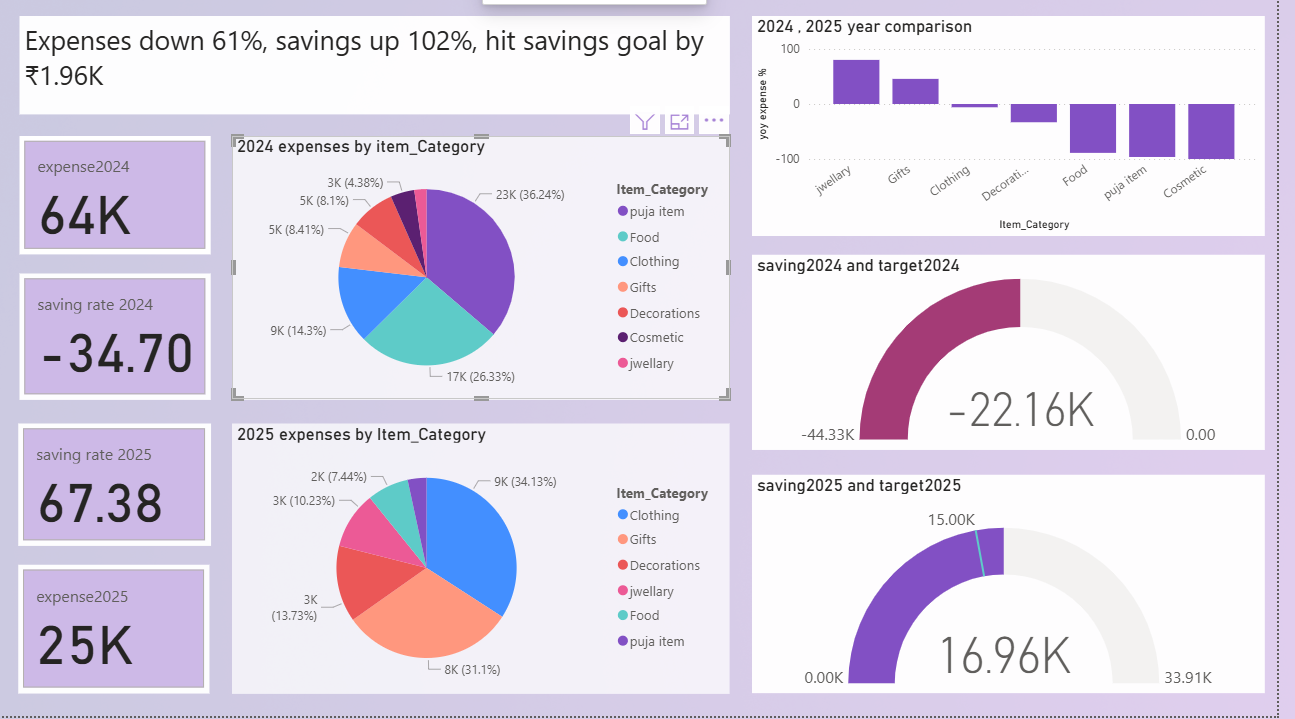

The page's visual inventory and layout, read from the dashboard file:
{"tool":"powerbi","page":{"name":"Page 1","canvas":[1280,720],"ordinal":0},"visuals":[{"type":"cardVisual","fields":{"Data":["Expenses.expense2024"]},"box":[22.5,140,191.2,118.8],"z":0},{"type":"cardVisual","fields":{"Data":["Expenses.expense2025"]},"box":[21.2,568.8,191.2,128.8],"z":1000},{"type":"pieChart","title":"2024 expenses by item_Category","fields":{"Category":["Expenses.Item_Category"],"Y":["Expenses.expense2024"]},"box":[235,140,497.5,263.8],"z":2000},{"type":"pieChart","title":"2025 expenses by Item_Category","fields":{"Category":["Expenses.Item_Category"],"Y":["Expenses.expense2025"]},"box":[235,427.5,497.5,270],"z":3000},{"type":"clusteredColumnChart","title":"2024 , 2025 year comparison","fields":{"Category":["Expenses.Item_Category"],"Y":["Expenses.yoy expense %"]},"box":[755,20,512.5,220],"z":4000},{"type":"cardVisual","fields":{"Data":["Expenses.saving rate 2024"]},"box":[22.5,277.5,191.2,126.2],"z":5000},{"type":"cardVisual","fields":{"Data":["Expenses.saving rate 2025"]},"box":[21.2,427.5,192.5,122.5],"z":6000},{"type":"gauge","fields":{"TargetValue":["Expenses.target2025"],"Y":["Expenses.saving2025"]},"box":[755,478.8,512.5,218.8],"z":7000},{"type":"gauge","fields":{"TargetValue":["Expenses.target2024"],"Y":["Expenses.saving2024"]},"box":[755,258.8,512.5,195],"z":8000},{"type":"textbox","box":[22.5,20,710,98.8],"z":9000}]}

Visuals, with their boxes in screenshot pixels (x1, y1, x2, y2), scaled from the page's 1280x720 canvas onto the 1295x719 screenshot:
cardVisual - Expenses.expense2024: crop(23, 140, 216, 258)
cardVisual - Expenses.expense2025: crop(21, 568, 215, 697)
"2024 expenses by item_Category" pieChart: crop(238, 140, 741, 403)
"2025 expenses by Item_Category" pieChart: crop(238, 427, 741, 697)
"2024 , 2025 year comparison" clusteredColumnChart: crop(764, 20, 1282, 240)
cardVisual - Expenses.saving rate 2024: crop(23, 277, 216, 403)
cardVisual - Expenses.saving rate 2025: crop(21, 427, 216, 549)
gauge - Expenses.target2025 x Expenses.saving2025: crop(764, 478, 1282, 697)
gauge - Expenses.target2024 x Expenses.saving2024: crop(764, 258, 1282, 453)
textbox: crop(23, 20, 741, 119)
